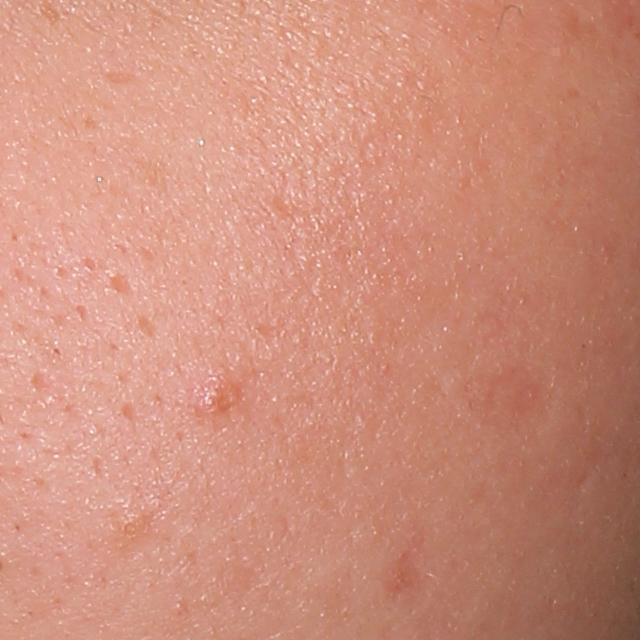atrophic_scar: (107, 270, 137, 300), (134, 314, 160, 342), (120, 400, 139, 428)
comedo: (117, 514, 145, 546)
